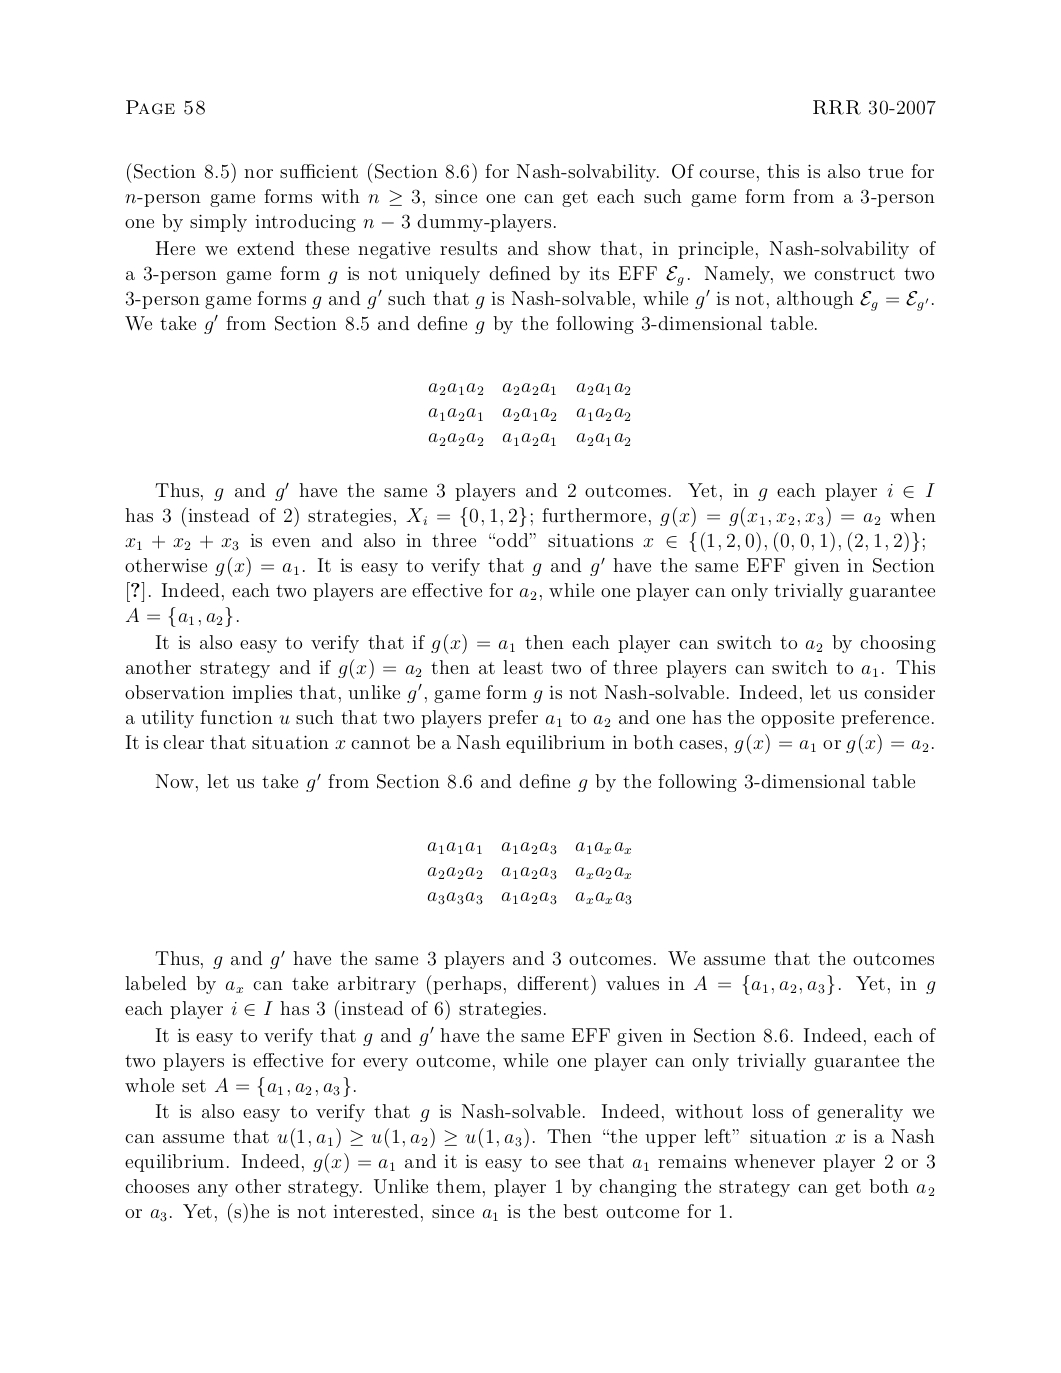formula: (427, 865, 630, 880), (427, 890, 631, 905), (428, 407, 630, 421), (427, 841, 630, 855), (428, 432, 630, 446), (428, 382, 630, 395)
